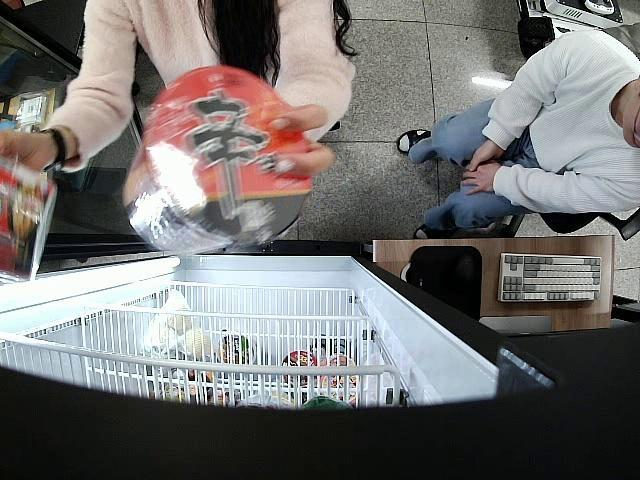01_ShinRamen_L: (121, 67, 312, 253), (0, 158, 60, 280)
